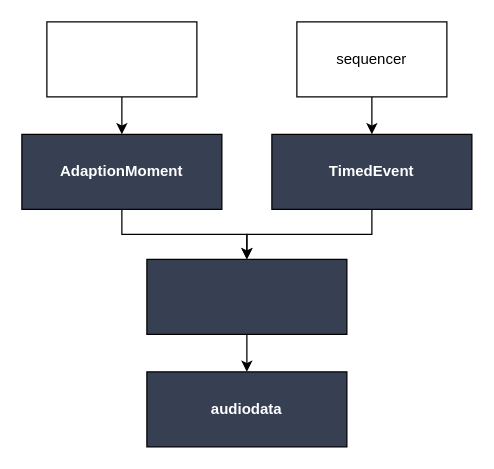
The diagram is 494 pixels wide and 469 high, and some of its shapes have lost their labels. Here are the shapes that lost their labels. From the top down, the box of each, then its label:
(46, 21, 197, 97): game event
(146, 258, 347, 334): Cycle(s)
